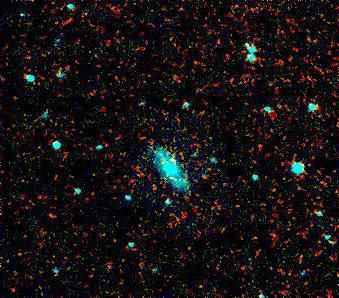star: (164, 67, 194, 97)
